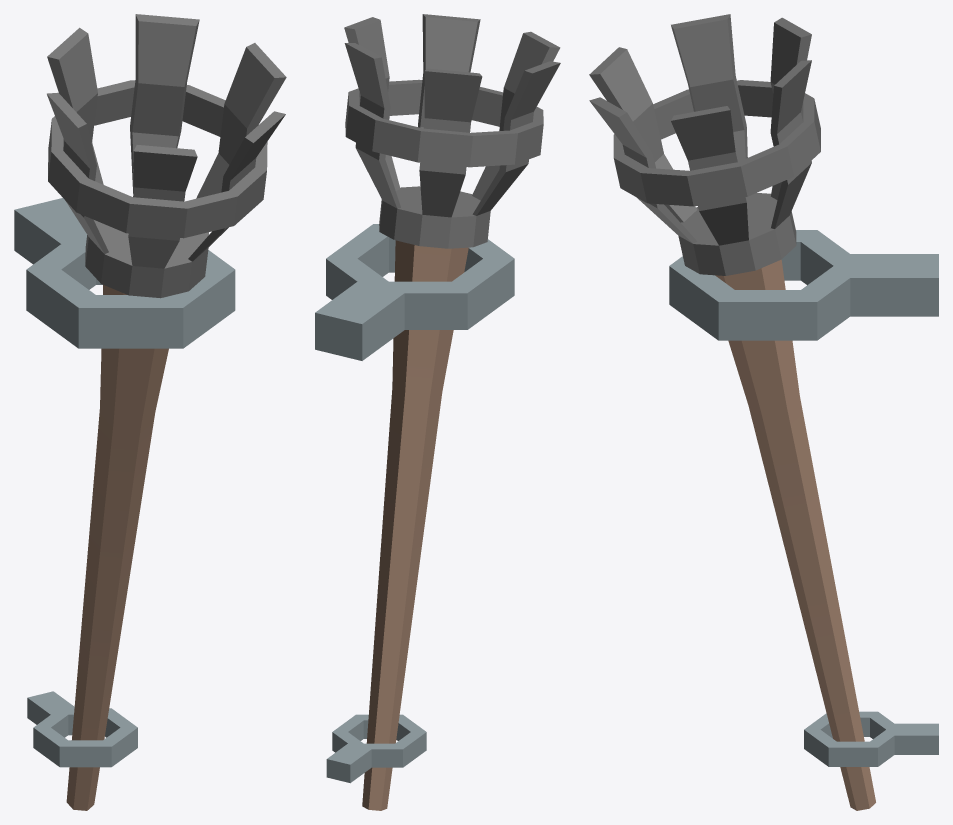
Rendered from prop_wall_torch.obj.
The picture shows the model from 3 angles, left to right: view 1: azimuth 30°, elevation 25°; view 2: azimuth 150°, elevation 25°; view 3: azimuth 270°, elevation 25°; orthographic projection. The views are drawn at different scales.
Parts seen in each view (by area): view 1: object4, object2, object3, object1; view 2: object4, object2, object3, object1; view 3: object4, object2, object3, object1.
Boxes of the visible parts, box(x1,y1,x2,y2) form: object4: box(47, 14, 286, 298); object2: box(66, 285, 168, 810); object3: box(14, 198, 235, 348); object1: box(27, 691, 137, 767); object4: box(344, 14, 560, 248); object2: box(362, 240, 468, 810); object3: box(315, 224, 514, 360); object1: box(326, 714, 426, 783); object4: box(589, 14, 820, 275); object2: box(715, 259, 875, 810); object3: box(669, 230, 938, 340); object1: box(804, 711, 938, 766).
Bounding box in the file's own units: 0.1333 × 0.4918 × 0.2051.
